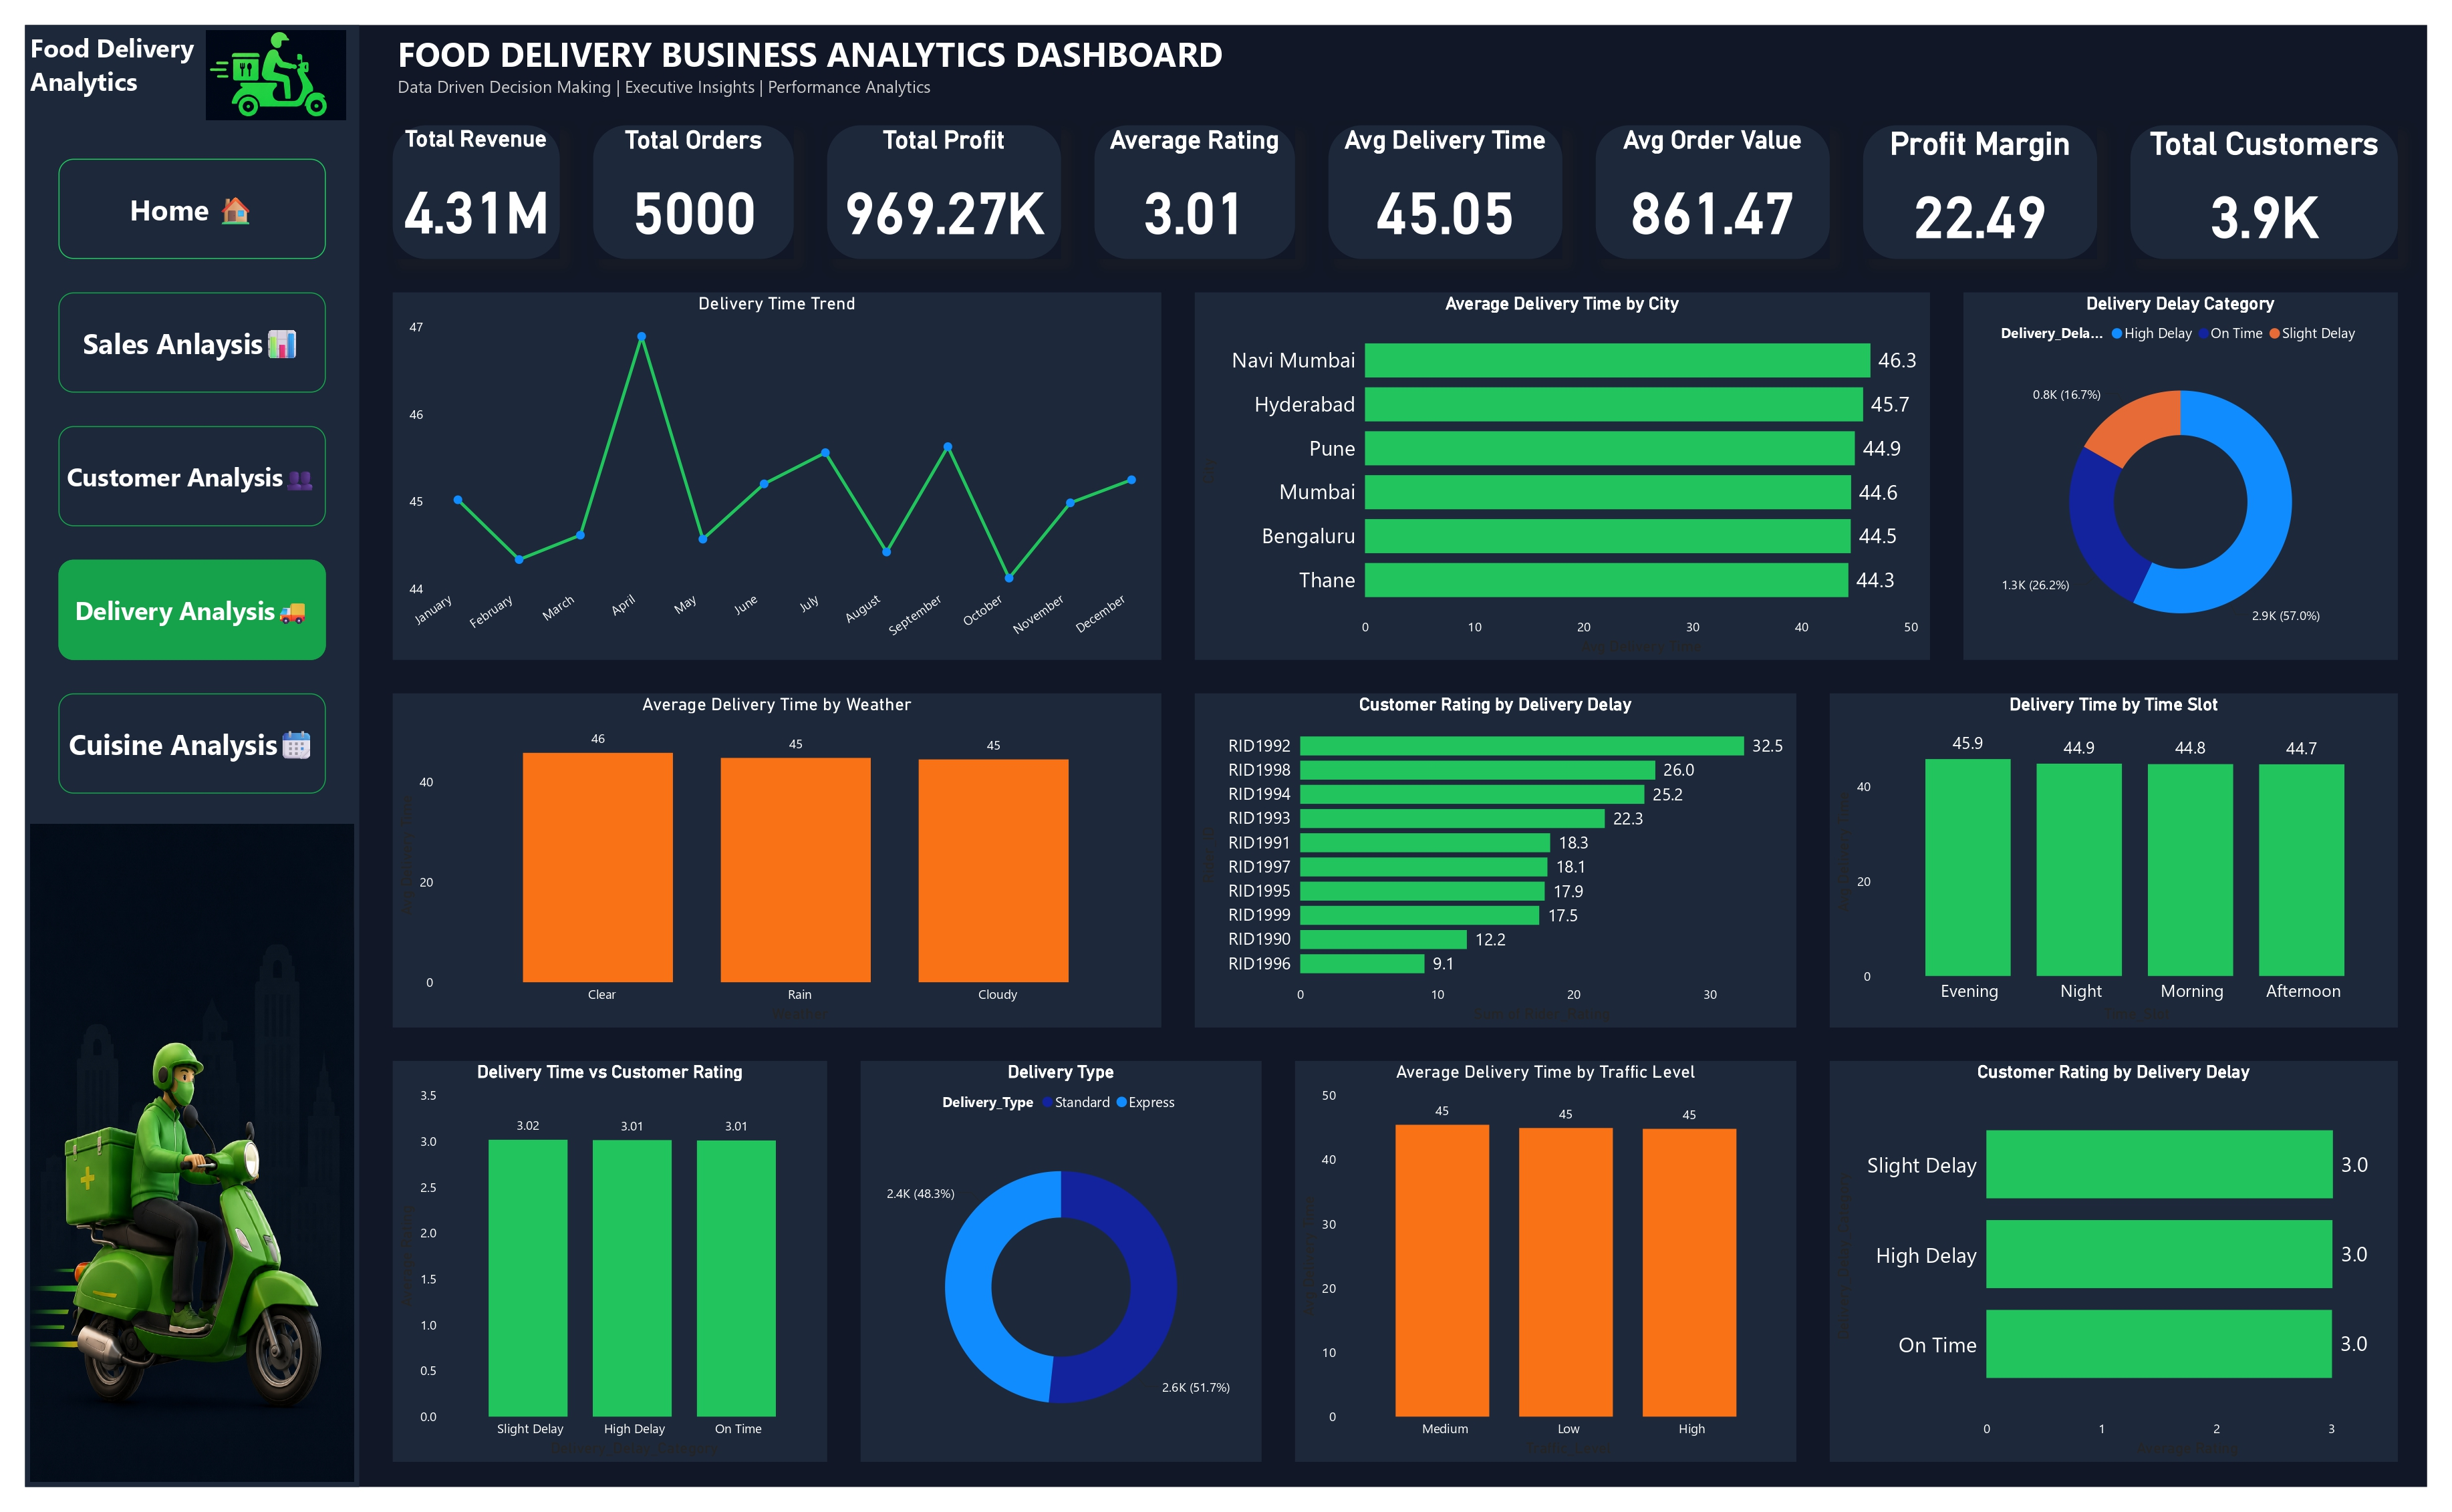

Layout of this report page (visuals, bound fields, positions):
{"tool":"powerbi","page":{"name":"Delivery Analysis🚚","canvas":[2300,1400],"ordinal":3},"visuals":[{"type":"textbox","box":[352,0,1664,320],"z":0},{"type":"shape","box":[352,96,160,128],"z":1000},{"type":"shape","box":[2016,96,256,128],"z":2000},{"type":"shape","box":[1760,96,224,128],"z":3000},{"type":"shape","box":[1504,96,224,128],"z":4000},{"type":"shape","box":[1248,96,224,128],"z":5000},{"type":"shape","box":[1024,96,192,128],"z":6000},{"type":"shape","box":[768,96,224,128],"z":7000},{"type":"shape","box":[544,96,192,128],"z":8000},{"type":"card","title":"Total Revenue","fields":{"Values":["food_delivery_clean_updated.Total Revenue"]},"box":[352,96,160,128],"z":9000},{"type":"card","title":"Total Orders","fields":{"Values":["food_delivery_clean_updated.Total Orders"]},"box":[544,96,192,128],"z":10000},{"type":"card","title":"Total Profit","fields":{"Values":["food_delivery_clean_updated.Total Profit"]},"box":[768,96,224,128],"z":11000},{"type":"card","title":"Avg Order Value","fields":{"Values":["food_delivery_clean_updated.Average Order Value"]},"box":[1504,96,224,128],"z":12000},{"type":"card","title":"Average Rating","fields":{"Values":["food_delivery_clean_updated.Average Rating"]},"box":[1024,96,192,128],"z":13000},{"type":"card","title":"Avg Delivery Time","fields":{"Values":["food_delivery_clean_updated.Avg Delivery Time"]},"box":[1248,96,224,128],"z":14000},{"type":"card","title":"Profit Margin ","fields":{"Values":["food_delivery_clean_updated.Profit Margin %"]},"box":[1760,96,224,128],"z":15000},{"type":"card","title":"Total Customers","fields":{"Values":["food_delivery_clean_updated.Total Customers"]},"box":[2016,96,256,128],"z":16000},{"type":"clusteredBarChart","title":"Average Delivery Time by City","fields":{"Category":["food_delivery_clean_updated.City"],"Y":["food_delivery_clean_updated.Avg Delivery Time"]},"box":[1120,256,704,352],"z":18000},{"type":"clusteredColumnChart","title":"Average Delivery Time by Weather","fields":{"Category":["food_delivery_clean_updated.Weather"],"Y":["food_delivery_clean_updated.Avg Delivery Time"]},"box":[352,640,736,320],"z":19000},{"type":"clusteredColumnChart","title":"Average Delivery Time by Traffic Level","fields":{"Category":["food_delivery_clean_updated.Traffic_Level"],"Y":["food_delivery_clean_updated.Avg Delivery Time"]},"box":[1216,992,480,384],"z":20000},{"type":"donutChart","title":"Delivery Delay Category","fields":{"Category":["food_delivery_clean_updated.Delivery_Delay_Category"],"Y":["food_delivery_clean_updated.Total Orders"]},"box":[1856,256,416,352],"z":23000},{"type":"clusteredColumnChart","title":"Delivery Time vs Customer Rating","fields":{"Y":["food_delivery_clean_updated.Average Rating"],"Category":["food_delivery_clean_updated.Delivery_Delay_Category"]},"box":[352,992,416,384],"z":25000},{"type":"shape","box":[0,-40,320,1440],"z":28000},{"type":"image","box":[160,0,160,96],"z":29000},{"type":"textbox","box":[0,0,192,96],"z":30000},{"type":"image","box":[0,760,320,640],"z":31000},{"type":"shape","box":[32,128,256,96],"z":32000},{"type":"shape","box":[32,512,256,96],"z":33000},{"type":"shape","box":[32,256,256,96],"z":34000},{"type":"shape","box":[32,384,256,96],"z":35000},{"type":"shape","box":[32,640,256,96],"z":36000},{"type":"lineChart","title":"Delivery Time Trend","fields":{"Category":["food_delivery_clean_updated.Order_Date.Variation.Date Hierarchy.Month"],"Y":["food_delivery_clean_updated.Avg Delivery Time"]},"box":[352,256,736,352],"z":36001},{"type":"clusteredBarChart","title":"Customer Rating by Delivery Delay","fields":{"Category":["food_delivery_clean_updated.Delivery_Delay_Category"],"Y":["food_delivery_clean_updated.Average Rating"]},"box":[1728,992,544,384],"z":36003},{"type":"clusteredColumnChart","title":"Delivery Time by Time Slot","fields":{"Category":["food_delivery_clean_updated.Time_Slot"],"Y":["food_delivery_clean_updated.Avg Delivery Time"]},"box":[1728,640,544,320],"z":36004},{"type":"clusteredBarChart","title":"Customer Rating by Delivery Delay","fields":{"Category":["food_delivery_clean_updated.Rider_ID"],"Y":["Sum(food_delivery_clean_updated.Rider_Rating)"]},"box":[1120,640,576,320],"z":36005},{"type":"donutChart","title":"Delivery Type","fields":{"Y":["CountNonNull(food_delivery_clean_updated.Order_ID)"],"Category":["food_delivery_clean_updated.Delivery_Type"]},"box":[800,992,384,384],"z":36006}]}

Visuals, with their boxes on the page's 2300x1400 design canvas (x1, y1, x2, y2). These are canvas units, not pixel positions in the 2452x1512 screenshot, which may show the page scaled, cropped or inside an application window:
textbox: box=[352, 0, 2016, 320]
shape: box=[352, 96, 512, 224]
shape: box=[2016, 96, 2272, 224]
shape: box=[1760, 96, 1984, 224]
shape: box=[1504, 96, 1728, 224]
shape: box=[1248, 96, 1472, 224]
shape: box=[1024, 96, 1216, 224]
shape: box=[768, 96, 992, 224]
shape: box=[544, 96, 736, 224]
"Total Revenue" card: box=[352, 96, 512, 224]
"Total Orders" card: box=[544, 96, 736, 224]
"Total Profit" card: box=[768, 96, 992, 224]
"Avg Order Value" card: box=[1504, 96, 1728, 224]
"Average Rating" card: box=[1024, 96, 1216, 224]
"Avg Delivery Time" card: box=[1248, 96, 1472, 224]
"Profit Margin " card: box=[1760, 96, 1984, 224]
"Total Customers" card: box=[2016, 96, 2272, 224]
"Average Delivery Time by City" clusteredBarChart: box=[1120, 256, 1824, 608]
"Average Delivery Time by Weather" clusteredColumnChart: box=[352, 640, 1088, 960]
"Average Delivery Time by Traffic Level" clusteredColumnChart: box=[1216, 992, 1696, 1376]
"Delivery Delay Category" donutChart: box=[1856, 256, 2272, 608]
"Delivery Time vs Customer Rating" clusteredColumnChart: box=[352, 992, 768, 1376]
shape: box=[0, -40, 320, 1400]
image: box=[160, 0, 320, 96]
textbox: box=[0, 0, 192, 96]
image: box=[0, 760, 320, 1400]
shape: box=[32, 128, 288, 224]
shape: box=[32, 512, 288, 608]
shape: box=[32, 256, 288, 352]
shape: box=[32, 384, 288, 480]
shape: box=[32, 640, 288, 736]
"Delivery Time Trend" lineChart: box=[352, 256, 1088, 608]
"Customer Rating by Delivery Delay" clusteredBarChart: box=[1728, 992, 2272, 1376]
"Delivery Time by Time Slot" clusteredColumnChart: box=[1728, 640, 2272, 960]
"Customer Rating by Delivery Delay" clusteredBarChart: box=[1120, 640, 1696, 960]
"Delivery Type" donutChart: box=[800, 992, 1184, 1376]
